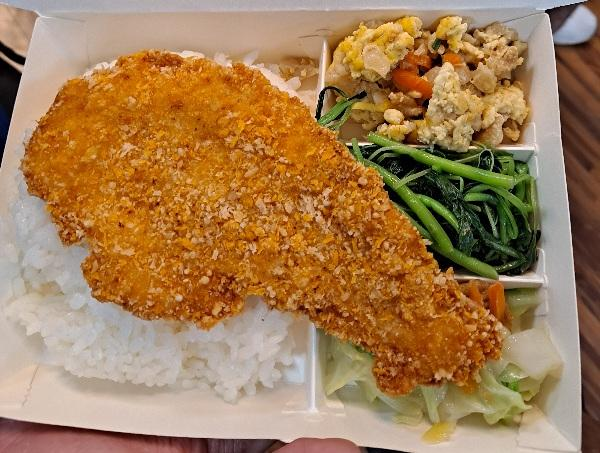big grilled chicken leg: (0, 4, 595, 453)
big herbal chicken leg: (6, 37, 319, 402)
braised fish fillet: (328, 291, 553, 430), (355, 142, 552, 272), (334, 22, 542, 139)
braised pork: (64, 48, 500, 392)
